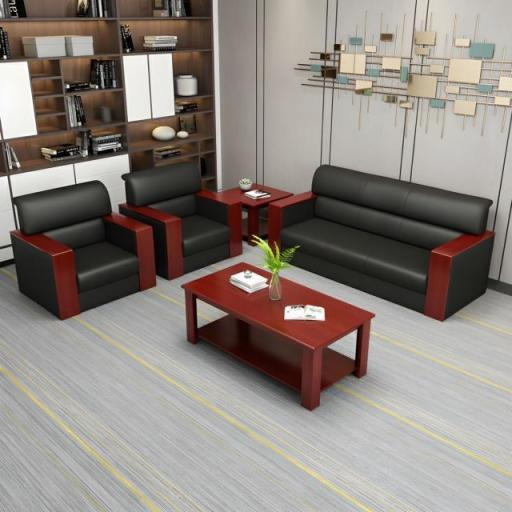sofa: (270, 147, 508, 334), (13, 152, 251, 316)
